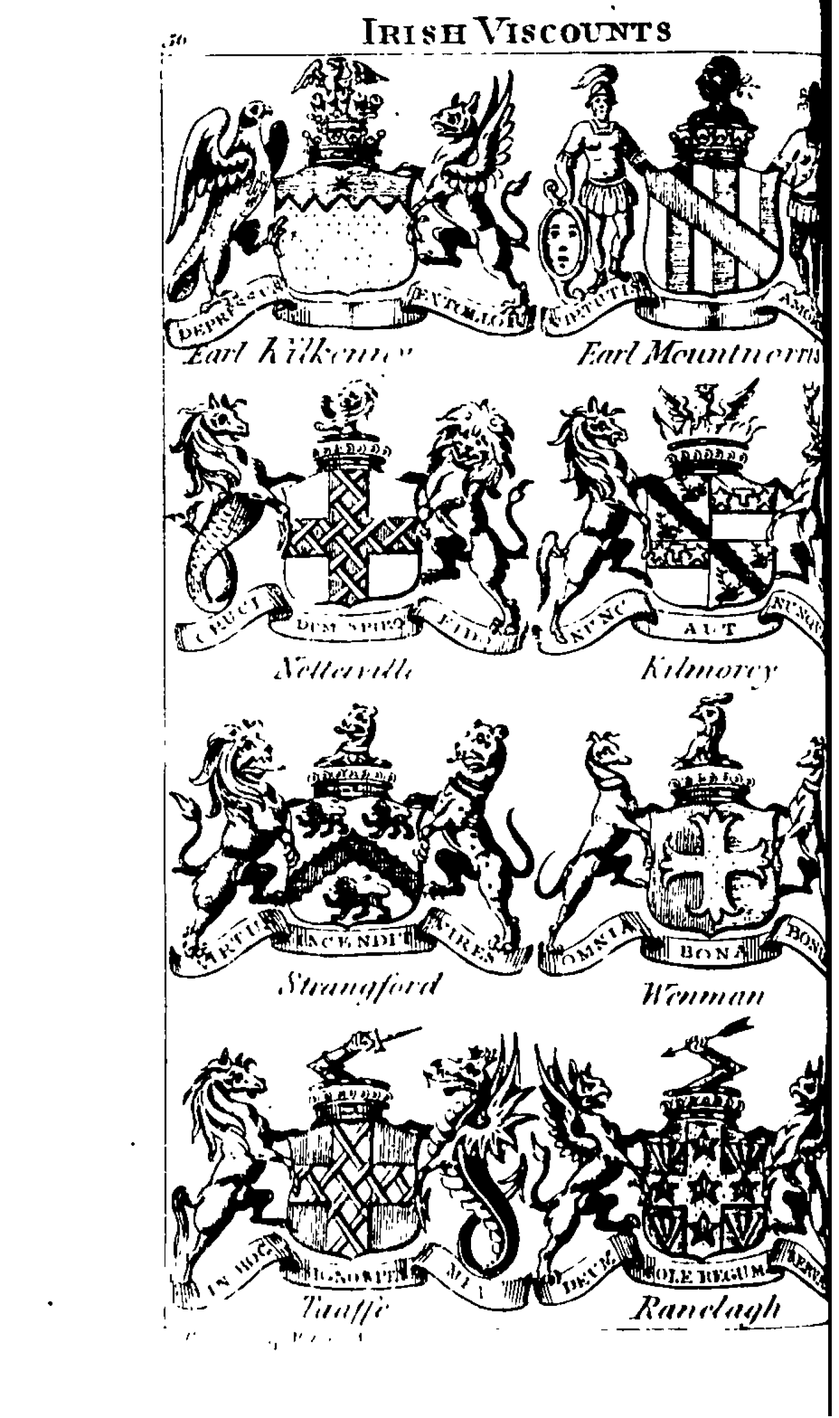coat_of_arms: (164, 1010, 537, 1327), (165, 59, 534, 379), (169, 697, 537, 1007), (165, 388, 532, 690), (530, 1011, 839, 1328), (531, 691, 825, 1014), (532, 53, 829, 372), (534, 381, 839, 688)
